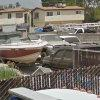Boat: (1, 34, 43, 69)
